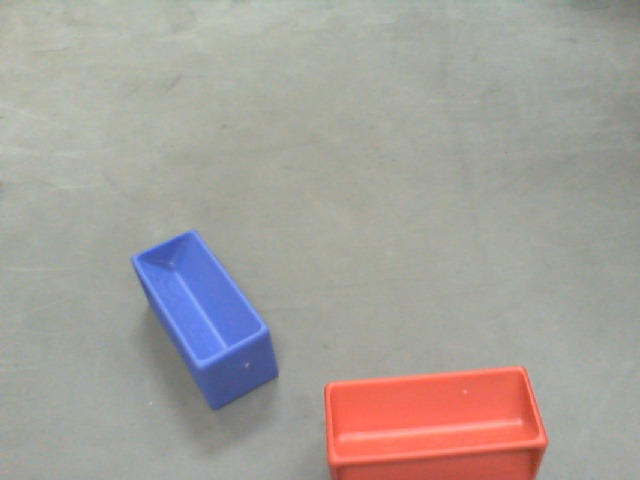BlueSample: (128, 229, 277, 409)
RedSample: (318, 362, 549, 480)
